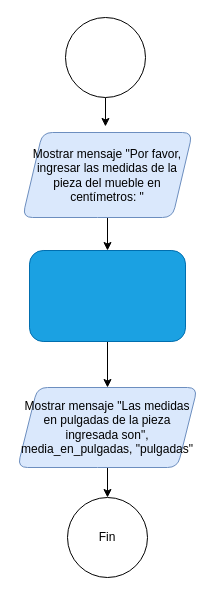
The diagram is 215 pixels wide and 595 high, and some of its shapes have lost their labels. The shapes that lost their labels are listed below. From the top down, each one's centre as x and y in pixels, then its label:
At (x=105, y=57): "Inicio".
At (x=107, y=296): "Convertir media_en_pulgadas = medida_en_centimetros / 2.54".
